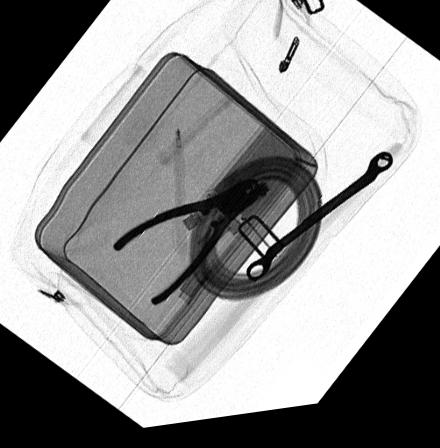Pliers: (109, 185, 268, 309)
Powerbank: (194, 128, 308, 249)
Wrench: (245, 163, 392, 291)
